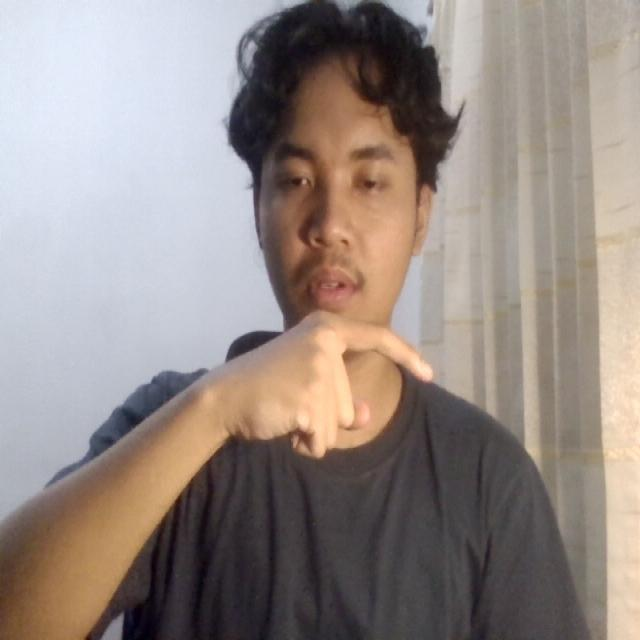N: (246, 293, 461, 491)
